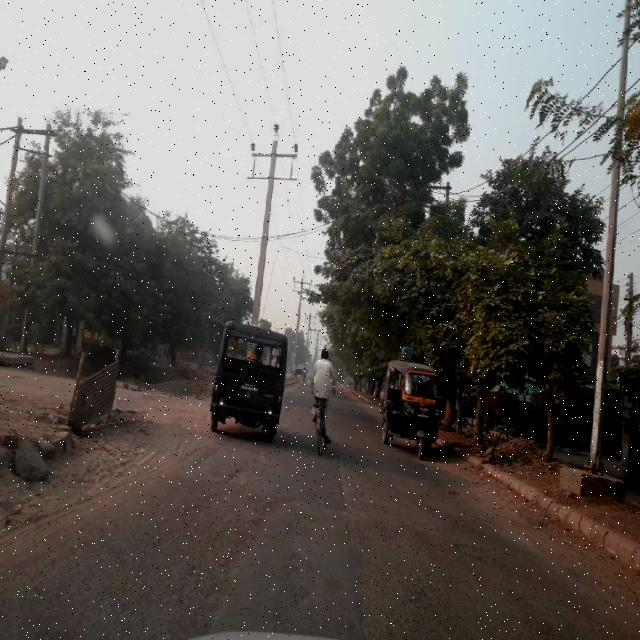D01: (326, 465, 371, 620)
D40: (215, 457, 259, 489)
